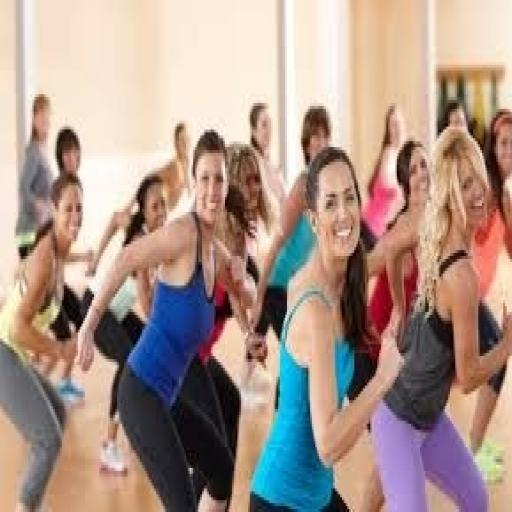dancing: (76, 127, 260, 509), (246, 144, 406, 509), (369, 124, 510, 509)
